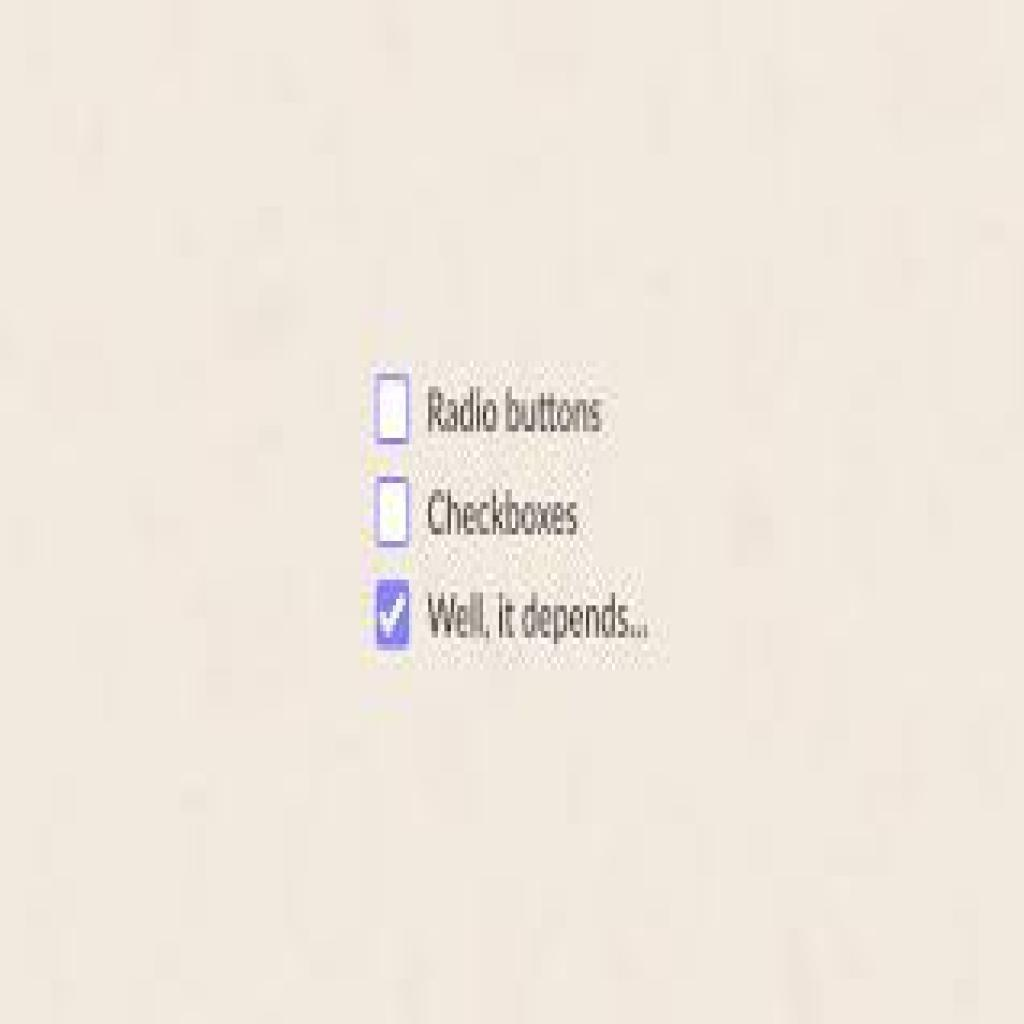checkbox: (372, 374, 410, 442), (374, 581, 410, 649), (375, 479, 410, 547)
label: (423, 581, 655, 651), (421, 376, 613, 442), (421, 483, 586, 544)
